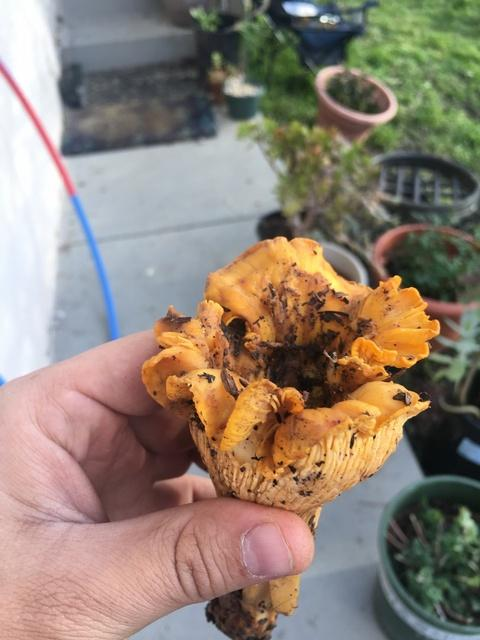Edible Mushroom: (140, 234, 440, 638)
